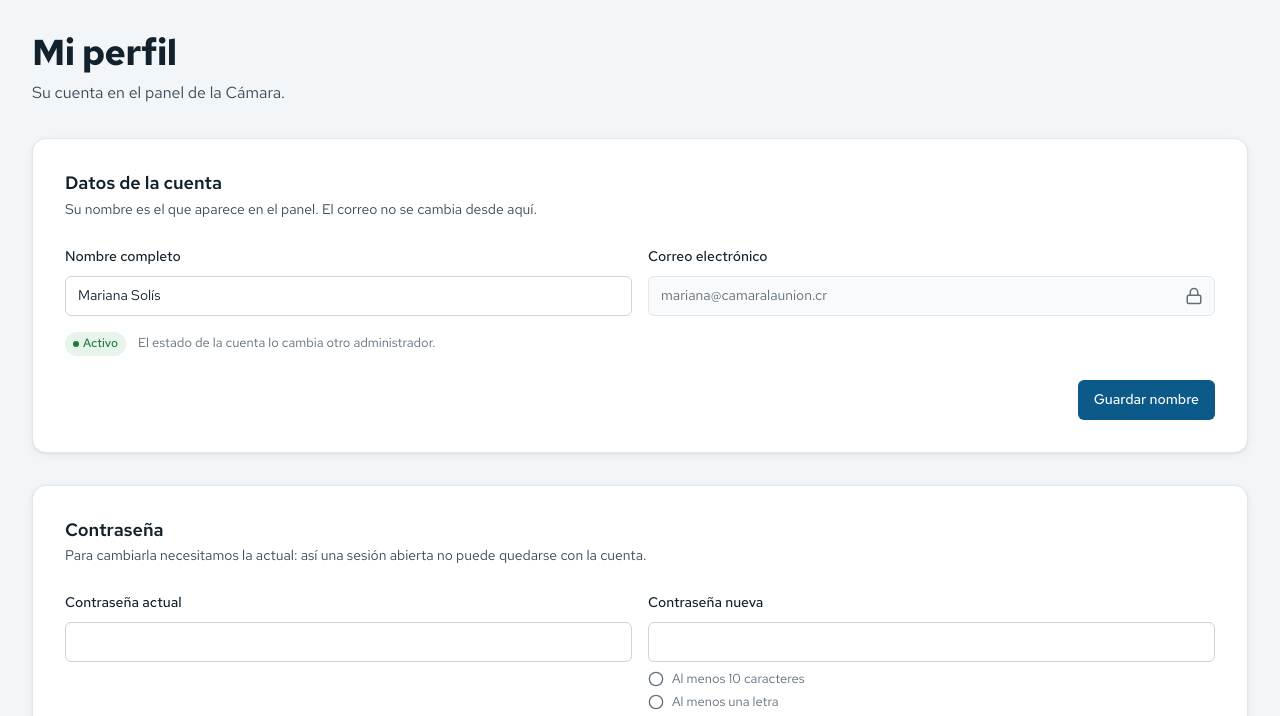
Test case: AdminProfilePage › a wrong current password is shown on its own field
Type "Otra2026!" into the password field labelled "Contraseña actual" at [348, 642], box x1=65 y1=622 x2=632 y2=662
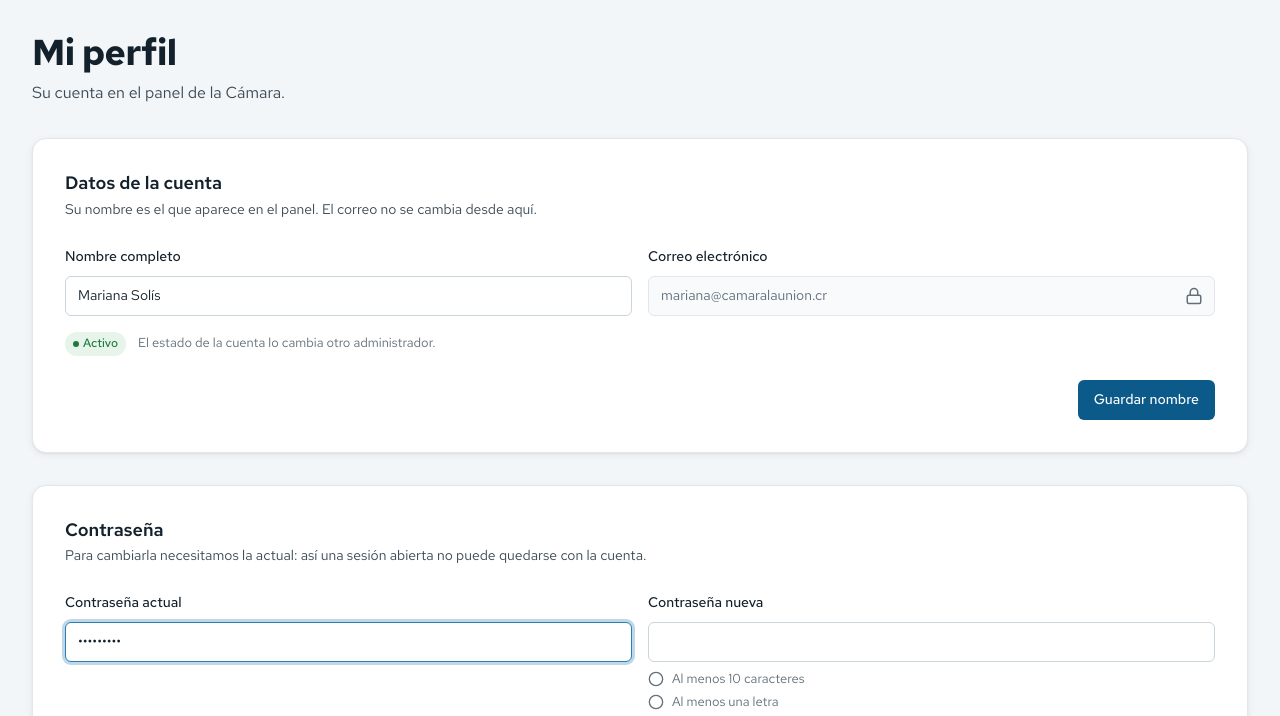
Type "Nueva2026!x" into the password field labelled "Contraseña nueva" at [932, 642], box x1=648 y1=622 x2=1215 y2=662
(page scrolled)
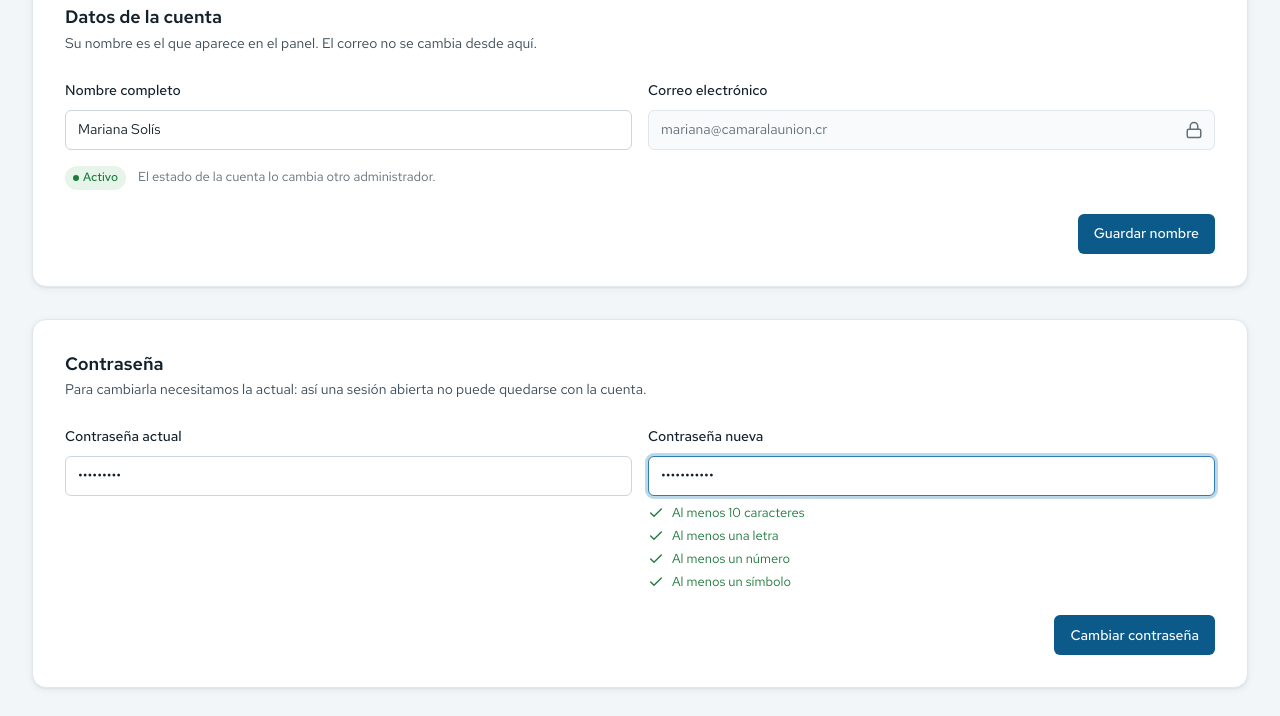
Click the button "Cambiar contraseña" at [1135, 635], box x1=1054 y1=615 x2=1215 y2=655
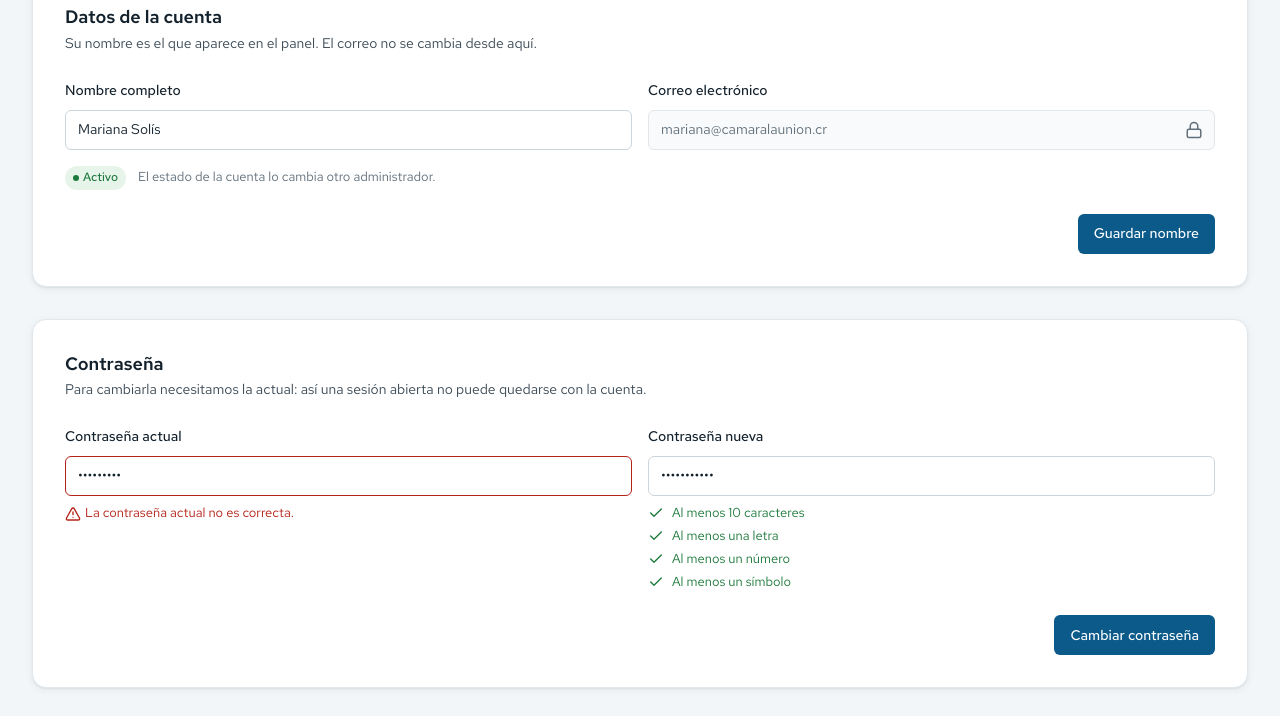
Expected: the text "La contraseña actual no es correcta." is shown, x1=65 y1=504 x2=294 y2=522
